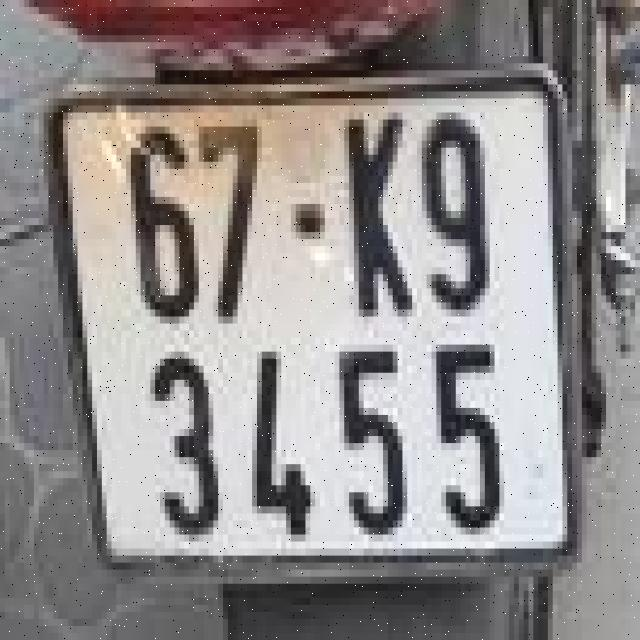3: (140, 341, 228, 545)
4: (242, 334, 320, 545)
5: (427, 338, 514, 548), (330, 334, 412, 545)
6: (119, 116, 201, 327)
7: (201, 109, 269, 327)
9: (419, 105, 512, 324)
K: (337, 98, 415, 316)
